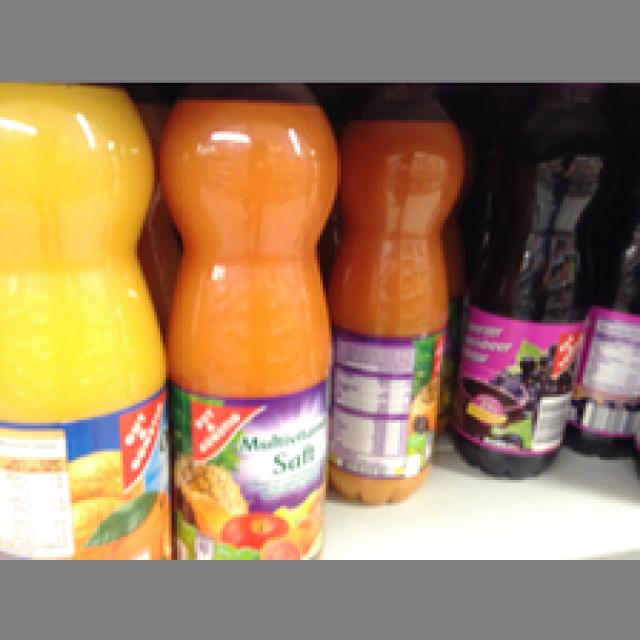groceries: (154, 80, 332, 554), (0, 79, 171, 554), (448, 80, 612, 477), (326, 80, 463, 503)
